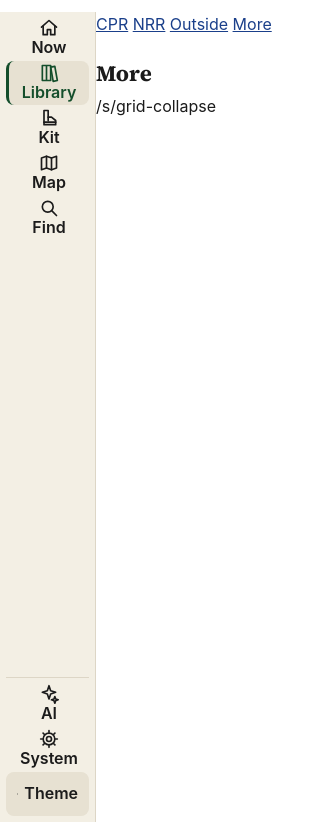
Html › renders the HTML and navigates app links through the router
Expected: the heading "More" is shown, [96,58,152,88]
Step 1. Click the link "CPR" → (112, 24), box [96,14,128,34]
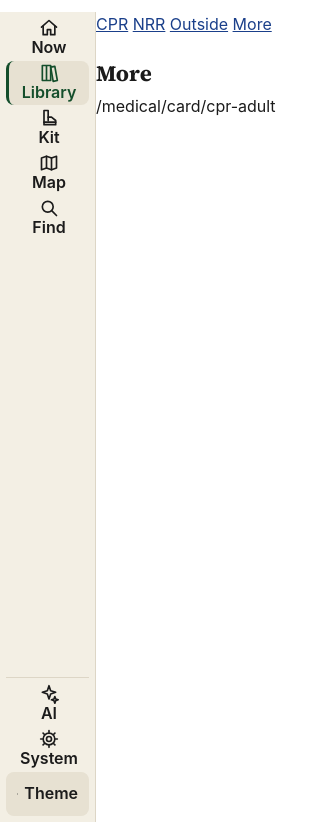
Result: the text with test id "where" reads "/medical/card/cpr-adult" at [96,96,276,116]
